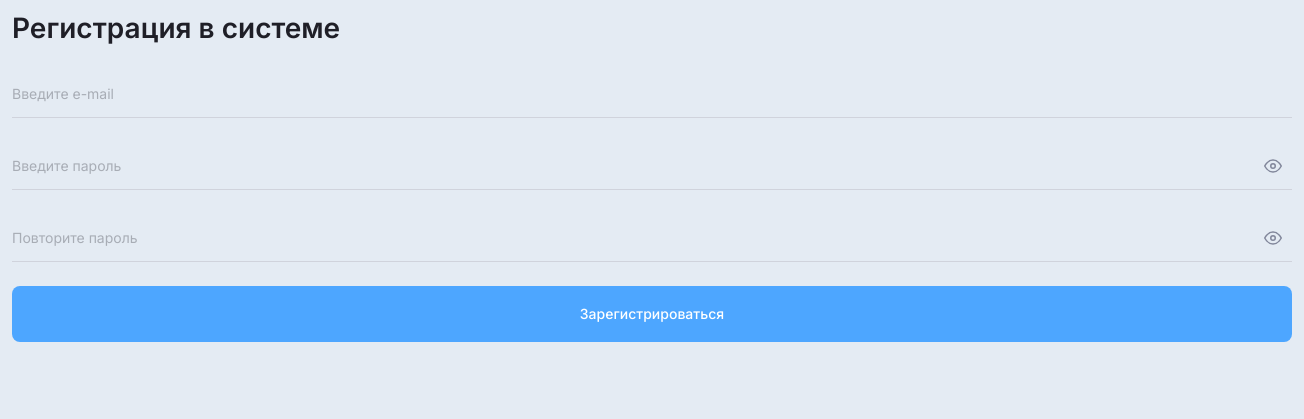
Test: SignUpForm › shows email format error for invalid email
Type "notanemail" into the field with placeholder "Введите e-mail" at (652, 94), box [12,70,1292,118]
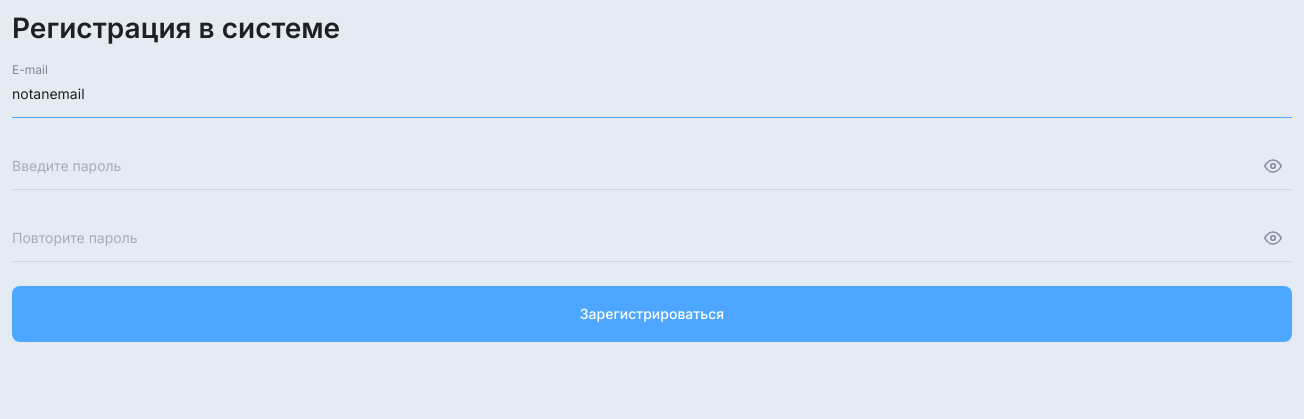
Click the button "Зарегистрироваться" at (652, 314), box [12,286,1292,342]
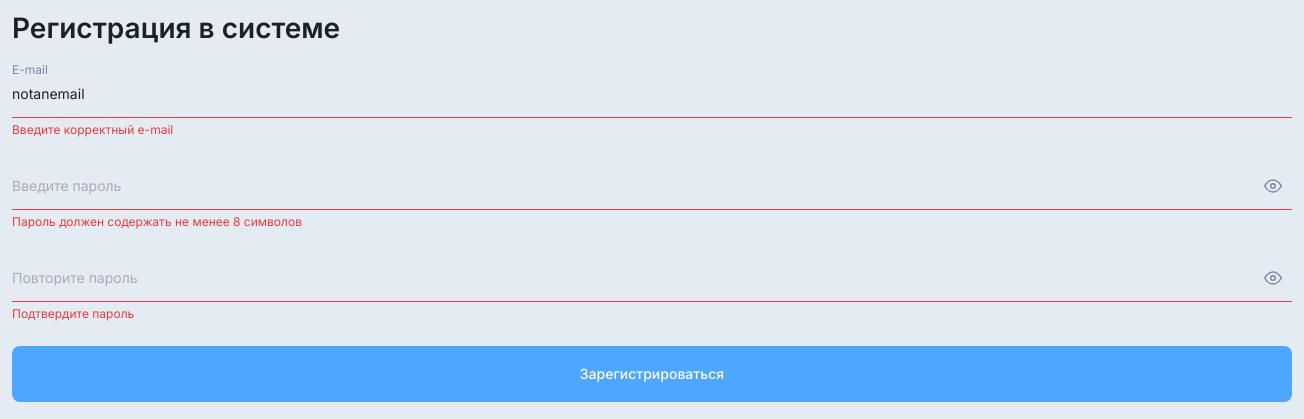
Check: the text "Введите корректный e-mail" is shown, box [12,122,173,137]
